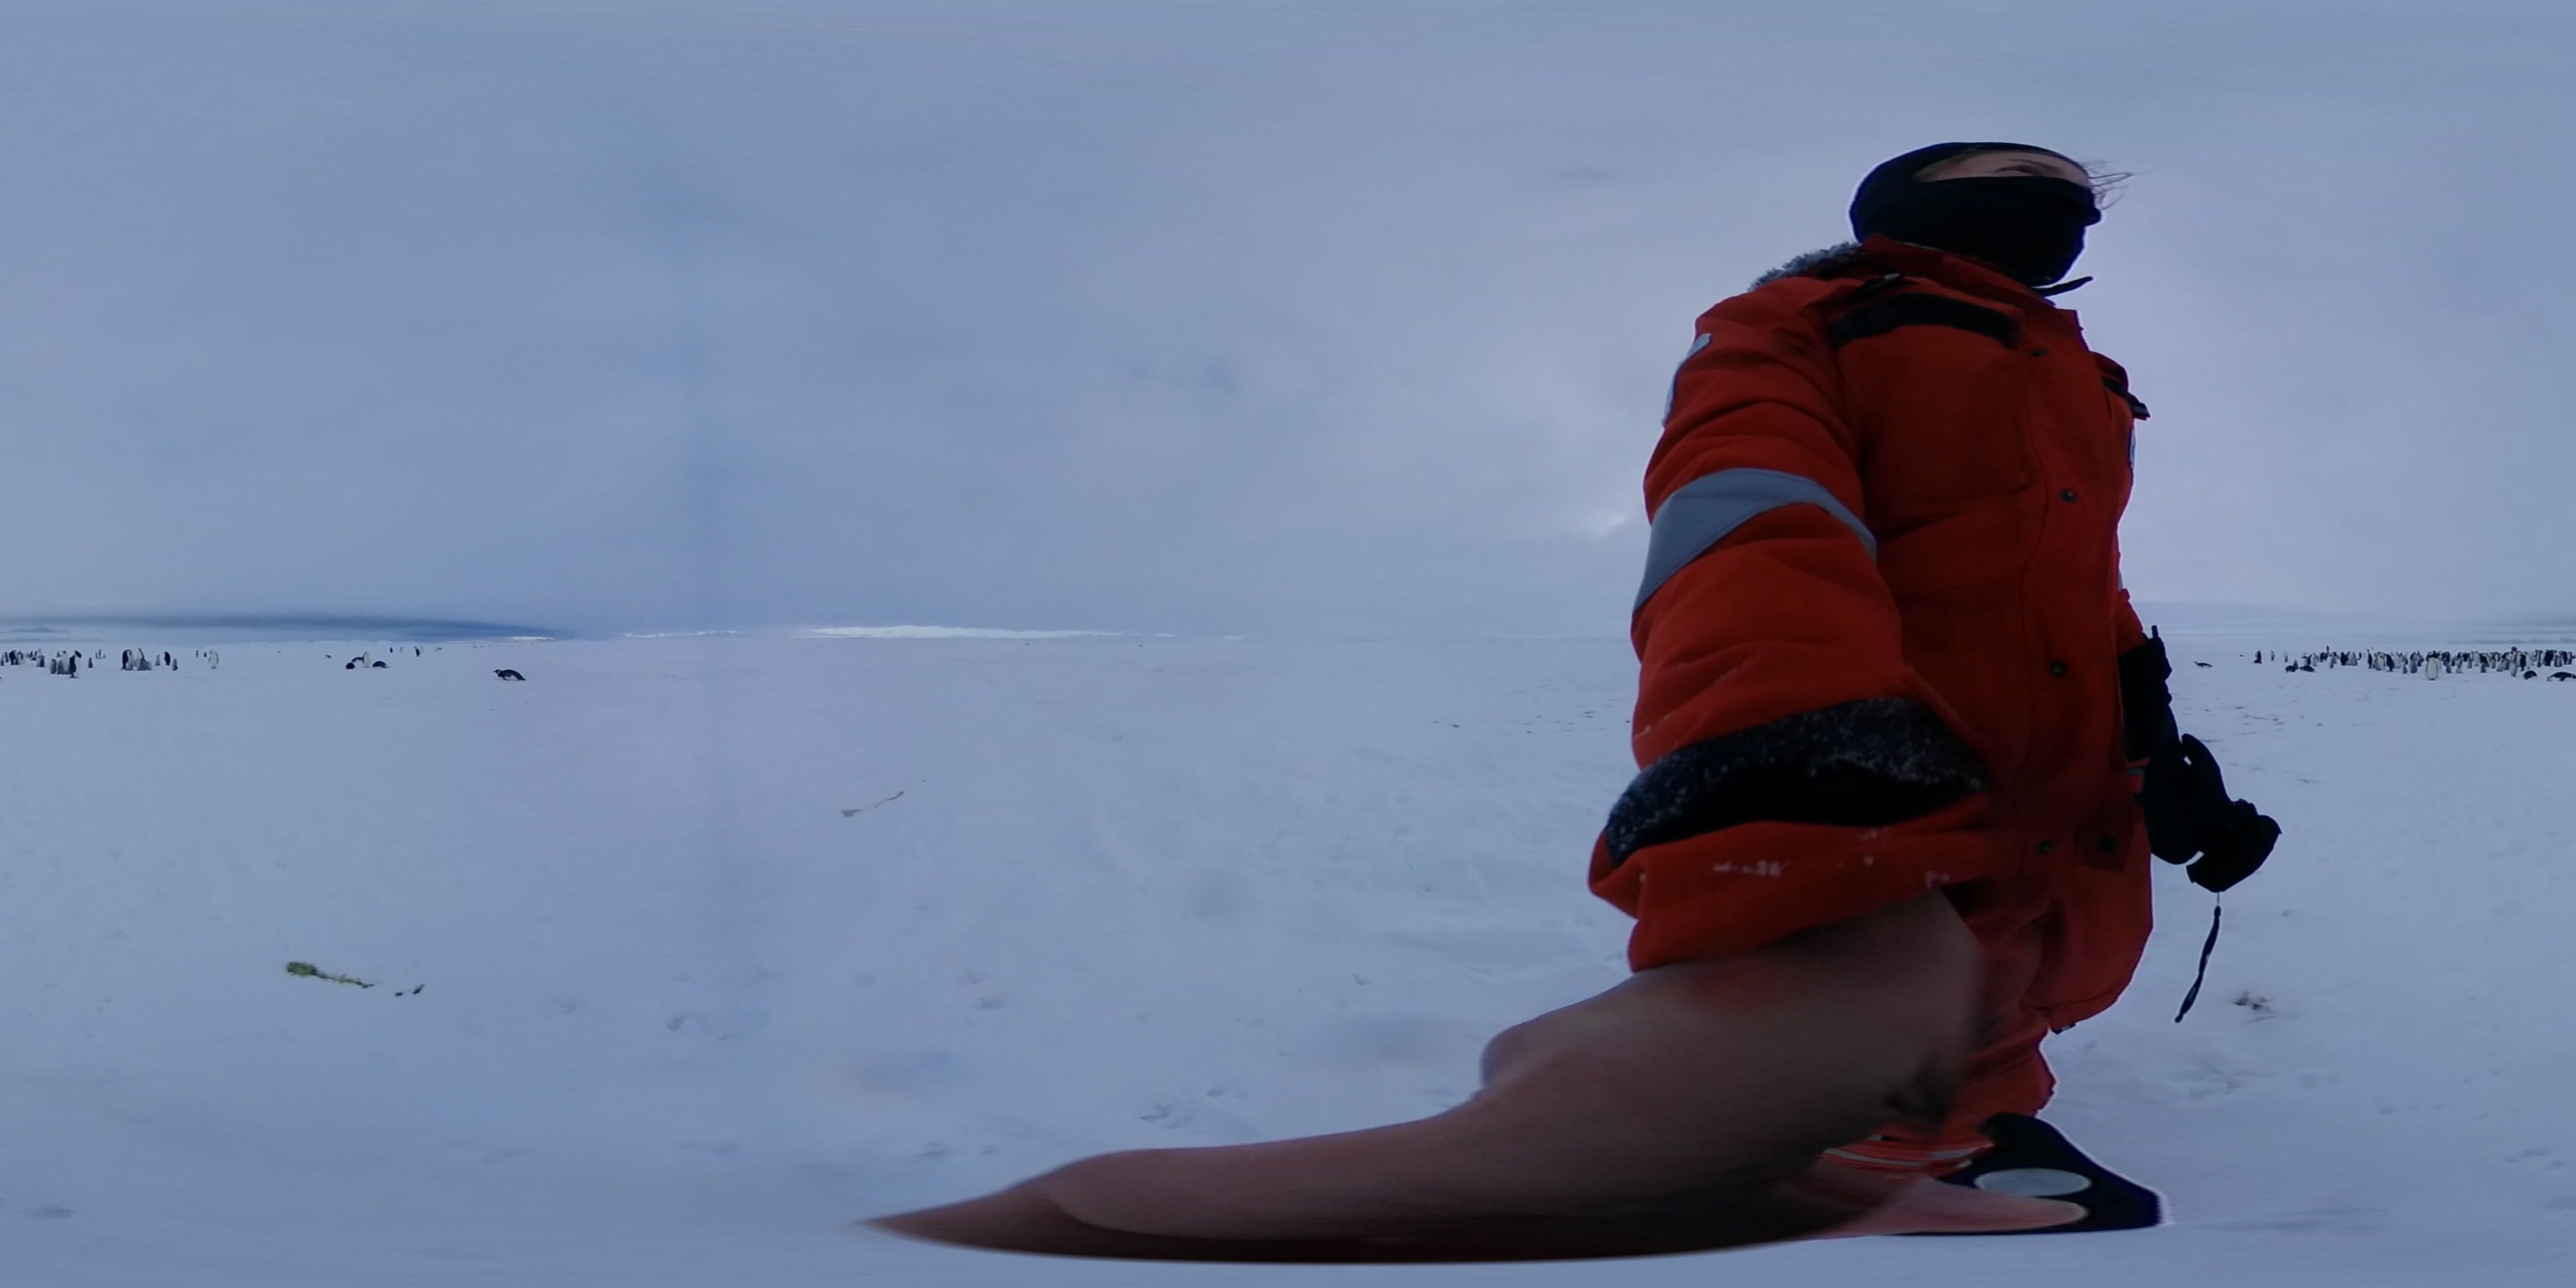adult_standing_penguin: (2425, 655, 2438, 683)
adult_toboggan_penguin: (491, 667, 527, 683), (2543, 670, 2576, 685), (370, 662, 393, 670)
researcher: (1556, 117, 2272, 1263)
